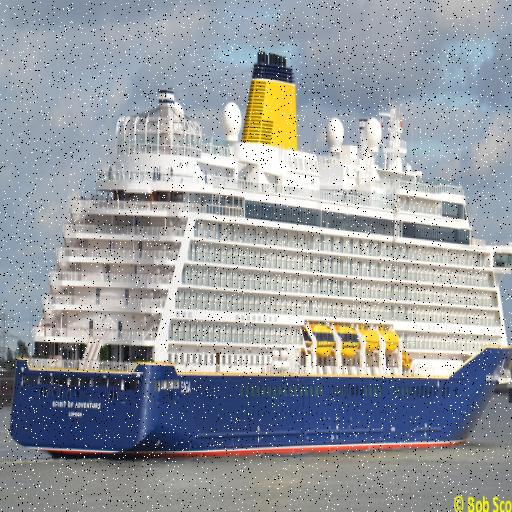cruises: (6, 48, 512, 470)
